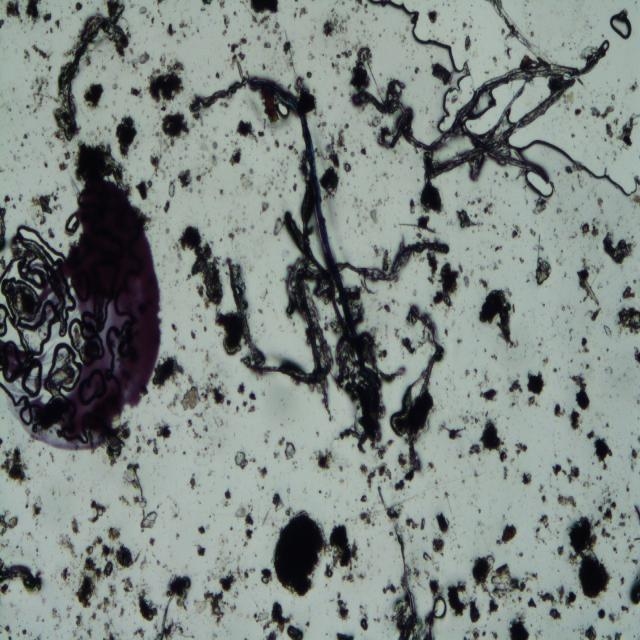Air bubble: (372, 0, 455, 59), (434, 62, 470, 132), (578, 162, 638, 198), (18, 226, 64, 263), (524, 170, 556, 200), (20, 358, 44, 398), (610, 13, 632, 40), (475, 93, 495, 118), (432, 597, 448, 618), (276, 102, 290, 119), (0, 304, 7, 337), (66, 214, 76, 233), (602, 38, 610, 51), (360, 495, 368, 501)
Background material: (334, 333, 392, 452), (271, 511, 325, 601), (175, 222, 225, 308), (568, 510, 612, 601), (388, 387, 438, 440), (479, 287, 520, 351), (147, 52, 187, 111), (124, 460, 156, 531), (323, 521, 357, 580), (77, 555, 113, 607), (348, 84, 406, 115), (213, 312, 244, 356), (148, 352, 184, 389), (433, 262, 459, 313), (0, 447, 34, 486), (528, 234, 553, 287), (204, 589, 236, 628), (492, 564, 526, 600), (6, 279, 38, 316), (348, 41, 372, 90), (393, 598, 421, 640), (116, 111, 140, 159), (28, 71, 52, 117), (420, 173, 446, 215), (376, 487, 404, 526), (602, 232, 634, 266), (472, 552, 496, 596), (137, 579, 161, 623), (105, 425, 131, 464), (293, 75, 319, 114), (151, 596, 173, 640), (202, 371, 226, 408), (168, 572, 192, 609), (446, 580, 468, 620), (161, 114, 191, 143), (258, 84, 280, 123), (570, 373, 592, 411), (152, 137, 174, 175), (264, 602, 290, 634), (480, 418, 504, 452), (322, 10, 352, 37), (27, 191, 53, 222), (615, 114, 640, 146), (616, 304, 640, 336), (115, 541, 141, 570), (508, 607, 530, 640), (348, 286, 366, 324), (592, 439, 614, 470), (229, 35, 248, 70), (455, 208, 483, 231), (322, 167, 342, 198), (178, 384, 200, 412), (166, 620, 196, 640), (374, 366, 407, 384), (0, 507, 19, 538), (285, 27, 297, 76), (437, 420, 465, 441), (324, 132, 340, 168), (430, 62, 455, 85), (237, 119, 259, 145), (87, 498, 109, 524), (526, 368, 546, 396), (58, 533, 78, 560), (85, 78, 103, 107), (212, 547, 232, 573), (417, 214, 437, 239), (101, 585, 117, 616), (337, 589, 352, 622), (598, 498, 618, 522), (406, 439, 420, 473), (249, 0, 280, 15), (497, 524, 518, 546), (128, 50, 150, 71), (24, 0, 41, 27), (534, 513, 549, 543), (466, 596, 482, 624), (510, 375, 524, 407), (374, 438, 394, 460), (591, 102, 615, 120), (175, 166, 193, 190), (426, 248, 438, 283), (219, 570, 237, 593), (249, 14, 271, 32), (226, 223, 248, 241), (102, 618, 120, 640), (33, 494, 44, 530), (359, 504, 376, 527), (5, 0, 22, 23), (435, 510, 451, 534), (557, 492, 577, 511), (427, 577, 446, 597), (630, 568, 640, 605), (568, 406, 582, 432), (172, 241, 183, 274), (32, 43, 52, 61), (85, 535, 102, 556), (461, 410, 482, 427), (404, 335, 421, 356), (535, 588, 556, 605), (0, 204, 8, 248), (357, 604, 369, 633), (422, 612, 434, 640), (286, 622, 304, 640), (318, 446, 332, 469), (463, 626, 486, 640), (284, 441, 298, 464), (335, 38, 358, 52), (578, 44, 598, 60), (575, 268, 590, 289), (205, 152, 218, 176), (322, 391, 332, 422), (238, 172, 254, 191), (377, 464, 392, 484), (152, 422, 172, 437), (227, 146, 242, 166), (431, 536, 445, 557), (380, 248, 392, 272), (59, 565, 71, 588), (358, 20, 371, 41), (233, 452, 249, 469), (359, 278, 373, 297), (252, 608, 268, 624), (193, 597, 207, 615), (584, 307, 602, 321), (566, 466, 580, 484), (328, 58, 342, 76), (222, 11, 232, 36), (336, 128, 345, 155), (487, 596, 499, 616), (273, 492, 285, 512), (121, 576, 135, 593), (562, 92, 576, 109), (427, 6, 440, 24), (53, 607, 63, 630), (366, 469, 376, 492), (566, 592, 578, 611), (608, 608, 622, 624), (350, 196, 364, 212), (481, 388, 498, 401), (382, 582, 400, 594), (534, 198, 546, 216), (70, 516, 82, 534), (477, 372, 489, 390), (548, 606, 563, 620), (576, 338, 590, 353), (367, 114, 381, 129), (129, 84, 143, 99), (271, 217, 281, 238), (620, 286, 636, 299), (115, 493, 131, 506), (198, 134, 210, 151), (222, 489, 232, 509), (168, 390, 178, 410), (500, 220, 510, 240), (237, 62, 248, 80), (524, 568, 538, 582), (190, 111, 203, 126), (102, 544, 115, 559), (132, 626, 147, 639), (630, 445, 638, 469), (109, 526, 121, 542), (599, 485, 615, 497), (260, 568, 272, 584), (167, 179, 177, 198), (522, 470, 533, 487), (585, 623, 596, 640), (421, 552, 434, 566), (553, 402, 565, 417), (490, 257, 502, 272), (148, 438, 158, 456), (403, 470, 415, 485), (256, 466, 268, 481), (262, 426, 272, 444), (368, 208, 379, 224), (287, 140, 298, 156), (336, 48, 352, 59), (139, 556, 149, 573), (244, 567, 257, 580), (316, 118, 328, 132), (406, 516, 418, 530), (600, 527, 612, 541), (398, 34, 410, 48), (244, 528, 256, 542), (166, 23, 177, 38), (399, 220, 417, 229), (24, 487, 31, 510), (339, 574, 355, 584), (378, 346, 388, 362), (411, 566, 421, 582), (137, 6, 149, 19), (350, 0, 362, 13), (592, 262, 604, 275), (191, 427, 203, 440), (177, 18, 189, 31), (199, 0, 211, 13), (394, 479, 406, 492), (468, 443, 479, 457), (573, 104, 587, 115), (357, 462, 368, 476), (335, 632, 354, 640), (245, 511, 255, 526), (602, 323, 612, 338), (605, 122, 614, 138), (464, 34, 472, 52), (236, 565, 244, 583), (57, 160, 69, 172), (196, 169, 207, 182), (195, 544, 206, 557), (45, 138, 55, 152), (299, 5, 309, 19), (259, 288, 269, 302), (630, 195, 640, 209), (483, 202, 493, 216), (190, 471, 197, 491), (236, 504, 246, 518), (597, 606, 607, 620), (261, 509, 269, 526), (512, 222, 520, 239), (157, 0, 165, 17), (557, 251, 565, 268), (4, 623, 12, 640), (263, 631, 278, 640), (503, 44, 512, 59), (50, 185, 59, 200), (499, 448, 508, 463), (557, 585, 564, 604), (582, 257, 592, 270), (75, 0, 85, 13), (628, 80, 638, 93), (248, 388, 258, 401), (76, 612, 84, 628), (204, 350, 212, 366), (502, 466, 510, 482), (0, 582, 9, 596), (23, 48, 31, 63), (272, 19, 280, 34), (216, 0, 228, 10), (237, 381, 245, 396), (564, 164, 574, 176), (517, 443, 527, 455), (409, 200, 417, 215), (63, 48, 75, 58), (478, 277, 488, 289), (554, 77, 564, 89), (370, 198, 382, 208), (633, 346, 640, 363), (399, 453, 406, 470), (633, 504, 640, 521), (462, 275, 471, 288), (556, 545, 565, 558), (307, 32, 316, 45), (553, 463, 561, 477), (577, 174, 585, 188), (616, 214, 624, 228), (48, 451, 56, 465), (620, 604, 630, 615), (618, 8, 628, 19), (42, 12, 52, 23), (528, 598, 538, 609), (371, 248, 381, 259), (206, 571, 216, 582), (260, 201, 270, 212), (197, 447, 208, 457), (587, 429, 597, 440), (444, 216, 455, 226), (196, 524, 206, 535), (602, 366, 614, 375), (579, 361, 591, 370), (204, 466, 213, 478), (292, 6, 299, 21), (610, 149, 618, 162), (197, 284, 205, 297), (357, 570, 367, 580), (53, 202, 63, 212), (302, 618, 312, 628), (489, 629, 498, 640), (277, 436, 286, 447), (25, 531, 34, 542), (214, 417, 223, 428), (535, 628, 543, 640), (248, 402, 256, 414), (592, 225, 600, 237), (383, 303, 391, 315), (46, 226, 54, 238), (65, 605, 72, 618), (136, 446, 145, 456), (578, 625, 584, 640), (524, 343, 530, 358), (110, 81, 119, 91), (322, 34, 328, 49), (529, 396, 537, 407), (383, 196, 391, 207), (555, 204, 563, 215), (344, 161, 352, 172), (85, 628, 93, 639), (315, 147, 323, 158), (41, 125, 48, 137), (567, 327, 573, 341), (570, 180, 576, 194), (165, 199, 171, 213), (364, 1, 370, 15), (572, 228, 579, 240), (192, 413, 204, 420), (420, 518, 426, 532), (414, 231, 423, 240), (168, 444, 176, 454), (66, 474, 74, 484), (428, 462, 436, 472), (308, 50, 316, 60), (195, 313, 203, 323), (632, 533, 640, 543), (494, 244, 504, 252), (501, 169, 509, 179), (286, 506, 294, 516), (381, 172, 389, 182), (85, 54, 91, 67), (191, 329, 198, 340), (618, 143, 629, 150), (628, 543, 636, 552), (257, 129, 265, 138), (492, 54, 498, 66), (1, 542, 9, 551), (241, 399, 249, 408), (580, 295, 588, 304), (394, 329, 400, 341), (135, 423, 143, 432), (262, 41, 270, 50), (35, 614, 44, 622), (233, 586, 239, 598), (111, 113, 118, 123), (582, 224, 589, 234), (415, 255, 425, 262), (176, 345, 186, 352), (464, 367, 471, 377), (615, 630, 622, 640), (186, 418, 193, 428), (292, 182, 298, 193), (119, 607, 125, 618), (552, 228, 558, 239), (64, 150, 70, 161), (0, 19, 6, 30), (444, 489, 450, 500), (188, 374, 194, 385), (476, 197, 484, 205), (413, 66, 421, 74), (542, 358, 550, 366), (592, 217, 600, 225), (468, 198, 476, 206), (566, 456, 573, 465), (429, 119, 436, 128), (360, 148, 367, 157), (595, 410, 604, 417), (170, 323, 177, 332), (274, 139, 281, 148), (598, 198, 604, 208), (149, 537, 155, 547), (202, 423, 208, 433), (43, 159, 49, 169), (634, 174, 640, 184), (71, 453, 77, 463), (150, 16, 156, 26), (530, 227, 536, 237), (626, 533, 632, 543), (286, 81, 292, 91), (180, 30, 186, 40), (55, 20, 61, 30), (371, 616, 381, 622), (374, 173, 380, 183), (214, 70, 220, 80), (604, 421, 611, 429), (392, 298, 400, 305), (620, 512, 627, 520), (154, 558, 161, 566), (4, 195, 12, 202), (489, 353, 497, 360), (619, 521, 627, 528), (101, 64, 108, 72), (225, 398, 232, 406), (582, 481, 590, 488), (242, 582, 249, 590), (20, 544, 24, 558), (635, 394, 640, 405), (260, 63, 266, 72), (18, 193, 24, 202), (140, 434, 146, 443), (610, 92, 616, 101), (540, 494, 546, 503), (408, 534, 414, 543), (452, 94, 458, 103), (612, 546, 618, 555), (14, 153, 20, 162), (213, 141, 219, 150), (509, 455, 515, 464), (444, 328, 450, 337), (105, 125, 111, 134), (91, 612, 97, 621), (262, 116, 266, 129), (384, 612, 389, 622), (235, 404, 240, 414), (163, 226, 170, 233), (632, 558, 639, 565), (378, 302, 382, 314), (489, 187, 493, 199), (636, 434, 640, 446), (576, 79, 584, 85), (530, 30, 536, 38), (367, 536, 371, 548), (604, 223, 610, 231), (468, 14, 474, 22), (517, 597, 523, 605), (573, 205, 579, 213), (550, 315, 554, 327), (23, 132, 29, 140), (563, 270, 569, 278), (285, 486, 291, 494), (186, 274, 192, 282), (243, 540, 249, 548), (172, 335, 178, 343), (211, 632, 217, 640), (76, 634, 84, 640), (163, 563, 168, 572), (474, 467, 478, 478), (606, 633, 612, 640), (222, 102, 228, 109), (473, 368, 479, 375), (219, 187, 225, 194), (613, 119, 619, 126), (146, 397, 152, 404), (422, 535, 428, 542), (312, 87, 318, 94), (359, 142, 366, 148), (131, 600, 137, 607), (503, 64, 509, 71), (22, 629, 28, 636), (479, 264, 485, 271), (522, 184, 528, 191), (274, 451, 280, 458), (469, 270, 475, 277), (248, 168, 254, 175), (554, 528, 560, 535), (37, 451, 43, 458), (570, 132, 576, 139), (176, 38, 182, 45), (156, 501, 162, 508), (425, 104, 429, 114), (621, 576, 625, 586), (0, 436, 4, 446), (462, 20, 467, 28), (596, 518, 600, 528), (9, 600, 14, 608), (626, 482, 630, 492), (604, 166, 608, 176), (35, 635, 43, 640), (445, 387, 449, 397), (393, 149, 399, 155), (24, 104, 30, 110), (586, 325, 590, 334), (62, 142, 68, 148), (337, 467, 343, 473), (554, 367, 560, 373), (596, 474, 602, 480), (136, 435, 140, 444), (537, 341, 543, 347), (318, 111, 324, 117), (172, 512, 178, 518), (42, 598, 46, 607), (58, 488, 62, 497), (317, 488, 323, 494), (306, 72, 312, 78), (628, 511, 632, 520), (257, 308, 263, 314), (49, 25, 53, 34), (598, 283, 604, 289), (344, 123, 350, 129), (278, 35, 284, 41), (464, 246, 470, 252), (274, 186, 280, 192), (558, 516, 564, 522), (262, 191, 268, 197), (631, 278, 637, 284), (590, 600, 596, 606), (232, 11, 238, 17), (88, 488, 93, 495), (562, 469, 567, 476), (12, 203, 17, 210), (561, 304, 566, 311), (0, 166, 5, 173), (452, 37, 457, 44), (501, 28, 506, 35), (338, 180, 343, 187), (457, 338, 462, 345), (492, 225, 497, 232), (519, 257, 524, 264), (525, 0, 530, 7), (48, 64, 52, 72), (520, 549, 524, 557), (460, 266, 464, 274), (356, 221, 360, 229), (414, 148, 418, 156), (524, 198, 528, 206), (73, 630, 77, 638), (626, 556, 631, 562), (482, 347, 487, 353), (338, 479, 344, 484), (217, 442, 222, 448), (340, 0, 346, 5), (328, 103, 333, 109), (222, 148, 227, 154), (269, 180, 274, 186), (183, 449, 187, 456), (621, 101, 625, 108), (467, 391, 471, 398), (316, 431, 320, 438), (280, 160, 284, 167), (333, 122, 337, 129), (203, 325, 207, 332), (485, 410, 489, 417), (176, 534, 180, 541), (540, 484, 543, 493), (346, 215, 349, 224), (51, 491, 56, 496), (239, 0, 244, 5), (618, 298, 623, 303), (398, 160, 403, 165), (72, 491, 77, 496), (468, 24, 472, 30), (561, 41, 565, 47), (454, 191, 458, 197), (617, 77, 621, 83), (373, 130, 377, 136), (591, 482, 597, 486), (567, 304, 571, 310), (597, 354, 601, 360), (351, 151, 355, 157), (256, 35, 260, 41), (459, 310, 463, 316), (474, 213, 478, 219), (293, 172, 297, 178), (390, 160, 394, 166), (346, 181, 350, 187), (278, 192, 282, 198), (512, 255, 516, 261), (20, 141, 24, 147), (8, 106, 12, 112), (12, 86, 16, 92), (478, 250, 482, 256), (29, 632, 33, 638), (129, 3, 135, 7), (412, 289, 416, 295), (600, 208, 604, 214), (98, 603, 102, 609), (266, 146, 270, 152), (229, 525, 233, 531), (334, 0, 340, 4), (379, 71, 383, 77), (15, 544, 19, 550), (619, 592, 622, 599), (611, 536, 616, 540), (484, 70, 489, 74), (631, 235, 635, 240), (601, 33, 605, 38), (528, 12, 532, 17), (378, 32, 382, 37), (502, 200, 507, 204), (542, 302, 546, 307), (606, 348, 610, 353), (450, 28, 454, 33), (483, 254, 487, 259), (334, 86, 338, 91), (224, 133, 228, 138), (234, 140, 238, 145), (52, 575, 56, 580), (373, 160, 377, 165), (431, 303, 434, 309), (59, 242, 62, 248), (620, 265, 623, 271), (390, 532, 394, 536), (606, 281, 610, 285), (570, 358, 574, 362), (474, 38, 478, 42), (574, 41, 576, 49), (36, 549, 38, 557), (44, 536, 48, 540), (605, 92, 609, 96), (344, 148, 348, 152), (341, 92, 345, 96), (375, 17, 379, 21), (496, 232, 500, 236), (568, 47, 572, 51), (22, 166, 26, 170), (493, 179, 497, 183), (244, 636, 248, 640), (634, 0, 637, 5), (596, 245, 599, 250), (556, 315, 559, 320), (619, 110, 622, 115), (460, 453, 462, 460), (356, 160, 358, 166), (417, 178, 420, 182), (528, 22, 532, 25), (597, 156, 600, 160), (11, 168, 14, 172), (604, 138, 607, 142), (322, 52, 325, 56), (585, 134, 588, 138), (331, 8, 334, 12), (390, 284, 392, 290), (565, 321, 569, 324), (276, 175, 280, 178), (286, 132, 290, 135), (517, 212, 520, 216), (410, 166, 413, 170), (282, 186, 284, 192), (295, 0, 299, 3), (372, 182, 374, 187), (638, 470, 640, 475), (315, 26, 317, 31), (509, 202, 511, 207), (499, 183, 502, 186), (382, 156, 384, 160), (584, 125, 586, 129), (590, 25, 592, 29), (455, 9, 457, 13), (370, 188, 372, 192), (613, 570, 615, 574), (366, 156, 368, 160), (380, 151, 382, 155), (594, 500, 596, 504), (353, 174, 355, 178), (471, 213, 473, 217), (550, 54, 552, 58), (142, 528, 144, 532), (436, 383, 438, 387), (370, 156, 372, 159), (626, 281, 628, 284), (268, 187, 270, 190), (290, 190, 292, 193), (312, 0, 314, 3), (448, 4, 450, 7), (454, 18, 456, 21), (568, 42, 570, 45)
Cellulose filter fibre: (378, 46, 606, 150), (225, 257, 347, 393), (428, 78, 578, 177), (54, 0, 128, 142), (340, 238, 450, 285), (190, 74, 302, 118), (489, 0, 552, 65), (475, 81, 527, 144), (408, 306, 443, 392), (483, 151, 547, 180), (395, 527, 416, 611), (0, 558, 43, 592)
Cotton: (253, 76, 369, 370)
Diatom: (584, 280, 598, 304)
Pen: (19, 172, 168, 446)
